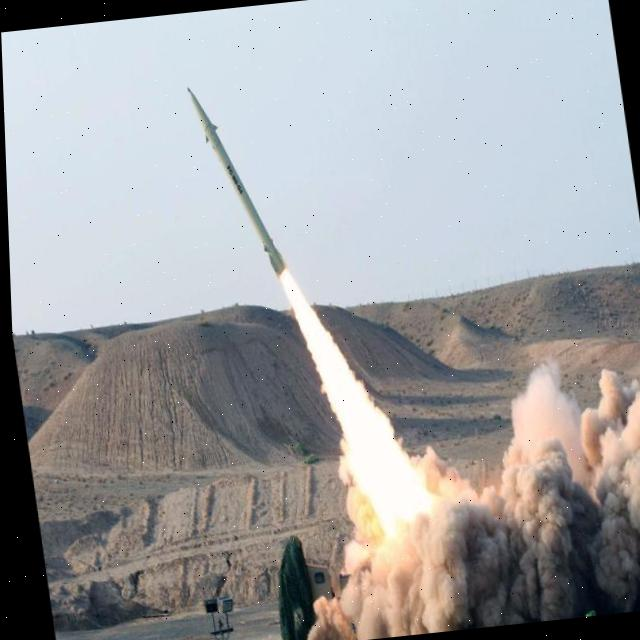missile: (183, 74, 297, 285)
